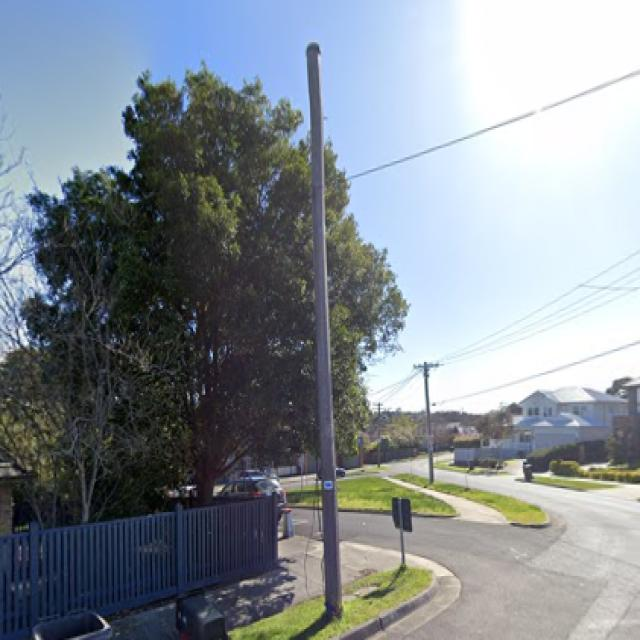crossarm: (412, 362, 442, 372)
timber-pole: (306, 42, 344, 621), (422, 360, 435, 484)
